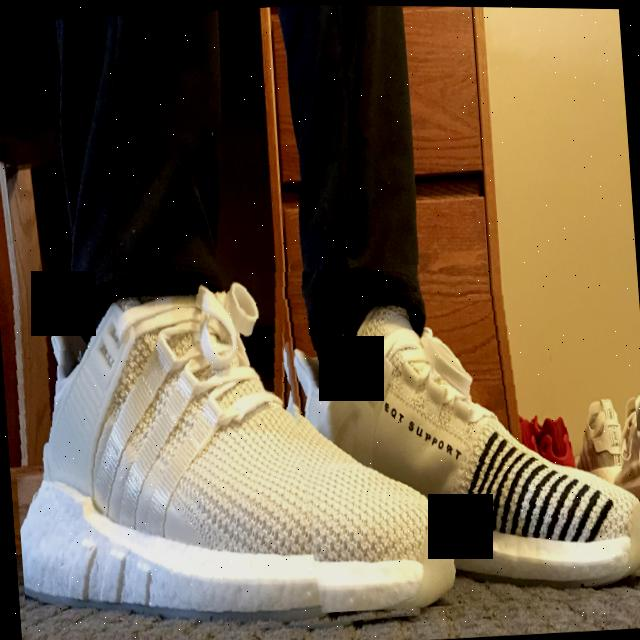shoe: (3, 258, 445, 640), (278, 273, 640, 616), (554, 376, 624, 488), (496, 384, 571, 486)
